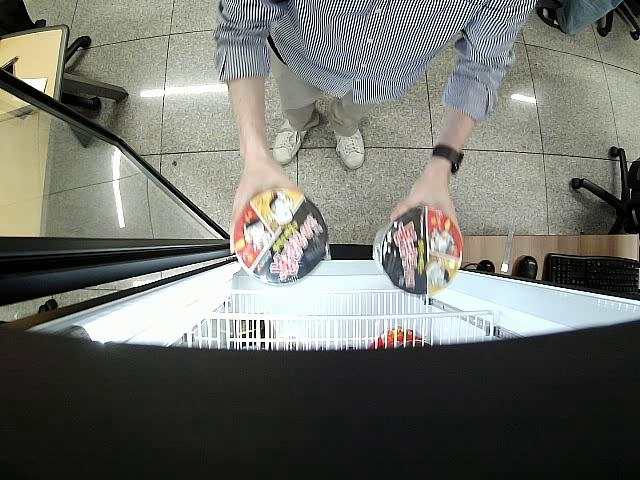00_hand: (229, 162, 305, 255), (391, 182, 465, 248)
07_buldak_L: (230, 190, 328, 288), (375, 208, 464, 295)
